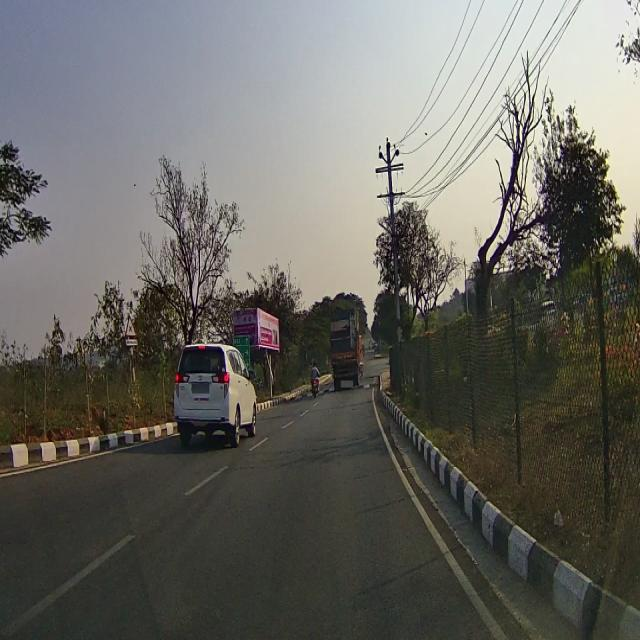car ahead at: (170, 329, 258, 457)
